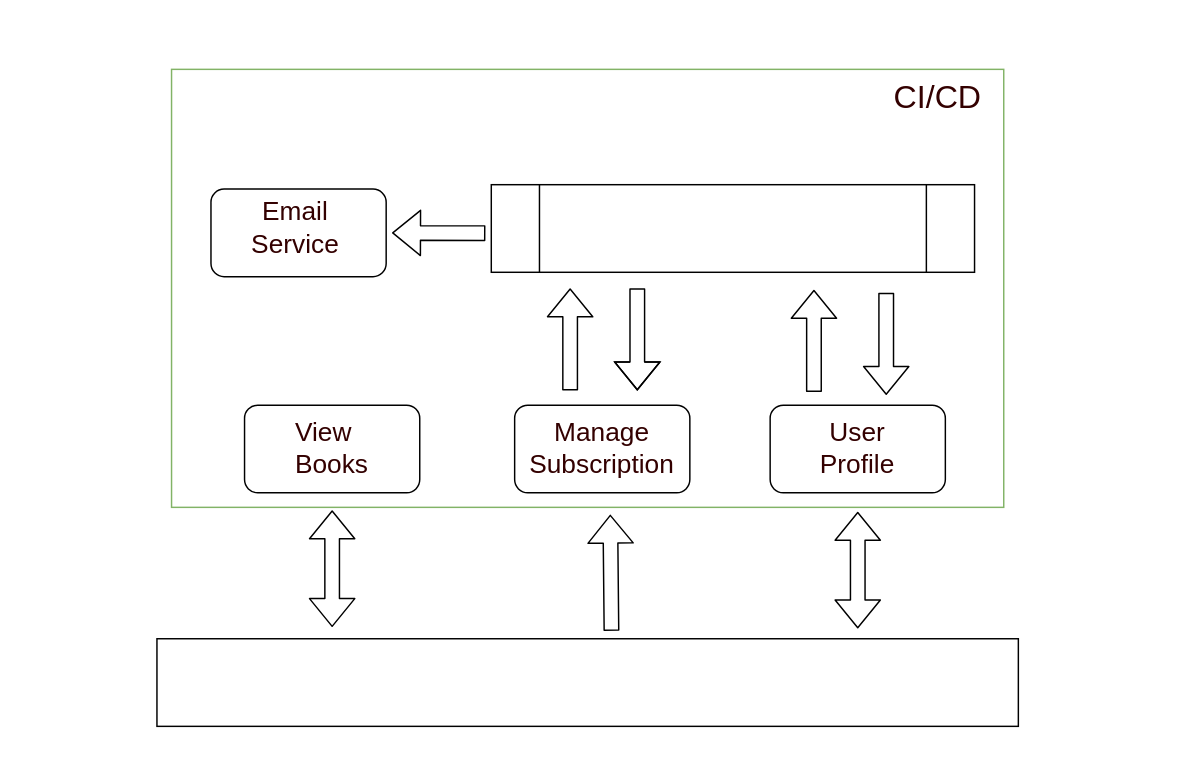
The diagram is 1203 pixels wide and 780 high, and some of its shapes have lost their labels. The shapes that lost their labels are listed below. From the top down, each one's box as (x1, y1, x2, y2) in pixels, then its label:
(490, 183, 975, 272): Kafka Broker
(155, 637, 1018, 726): NetBoox
